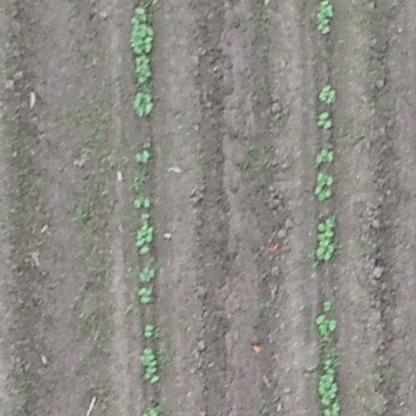vc: (314, 361, 347, 411), (128, 6, 159, 54), (314, 214, 339, 263), (137, 347, 166, 385), (135, 212, 157, 254), (131, 90, 159, 121), (314, 1, 336, 36), (313, 171, 336, 202), (133, 57, 159, 84), (313, 314, 340, 339), (317, 78, 339, 105), (312, 110, 336, 131), (317, 145, 335, 166), (138, 286, 154, 309), (132, 147, 153, 164), (136, 264, 155, 282), (130, 193, 153, 207), (142, 322, 156, 339), (323, 298, 331, 310)
